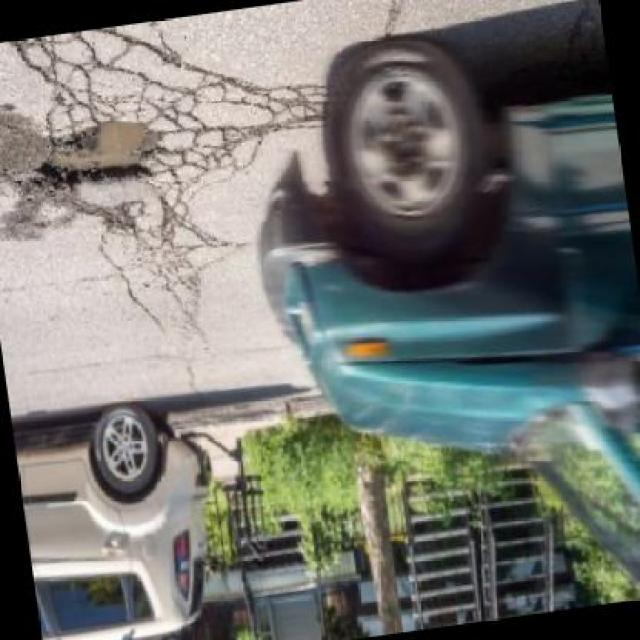pothole1: (28, 117, 165, 195)
